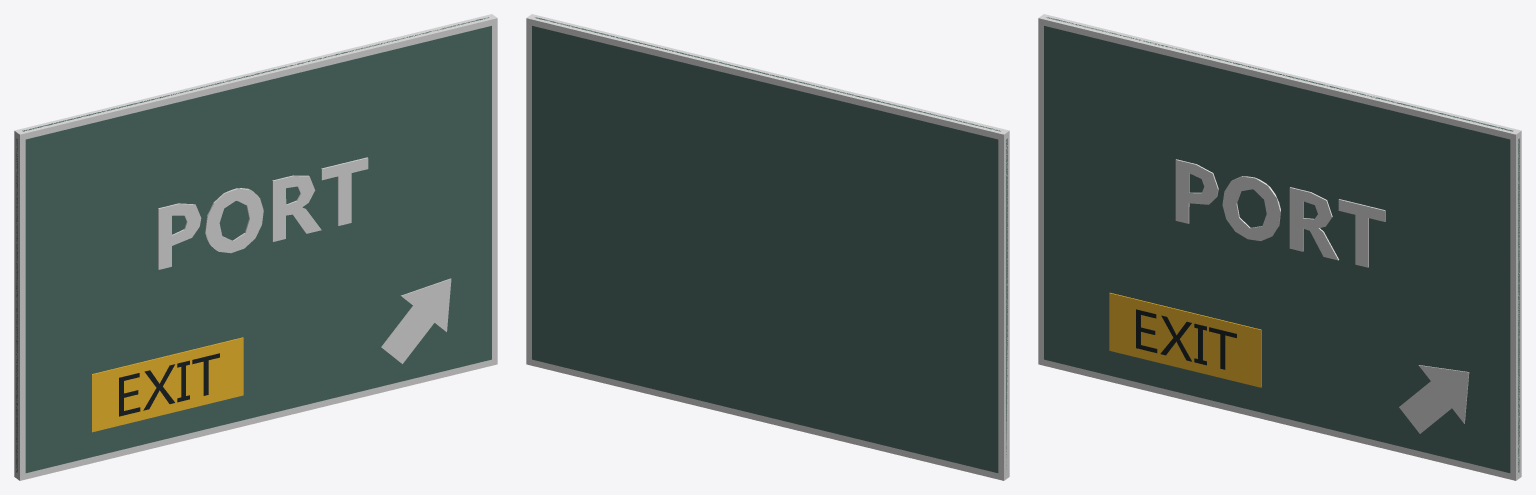
The model's file is SM_FloorProps_RoadSign_41.fbx.
3 views of the same model, side by side, from view 1: azimuth 30°, elevation 25°; view 2: azimuth 150°, elevation 25°; view 3: azimuth 330°, elevation 25° (orthographic).
Visible parts, largest first — view 1: SM_FloorProps_RoadSign_41; view 2: SM_FloorProps_RoadSign_41; view 3: SM_FloorProps_RoadSign_41.
Part boxes in pixels (bbox=[...]): SM_FloorProps_RoadSign_41: bbox=[14, 14, 497, 480]; SM_FloorProps_RoadSign_41: bbox=[526, 14, 1009, 480]; SM_FloorProps_RoadSign_41: bbox=[1038, 14, 1521, 480].
Bounding box in the file's own units: 2.33 × 1.61 × 0.0552.
